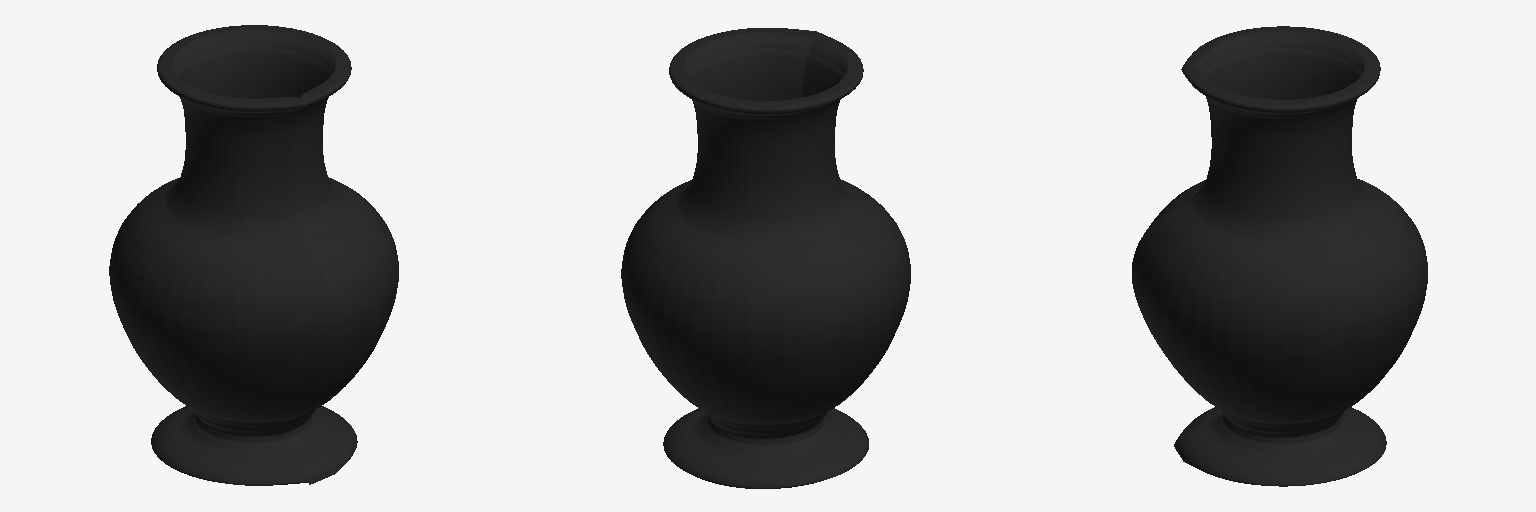
File: vase2.obj
3 renders of one model, left to right at view 1: azimuth 30°, elevation 25°; view 2: azimuth 150°, elevation 25°; view 3: azimuth 270°, elevation 25°, orthographic.
Visible parts, largest first — view 1: Cube; view 2: Cube; view 3: Cube.
Boxes of the visible parts, <box> form: Cube: <box>109,25,398,485</box>; Cube: <box>621,28,910,488</box>; Cube: <box>1132,26,1427,486</box>.
Size of the model in its own units: 1.67 by 2.42 by 1.71.